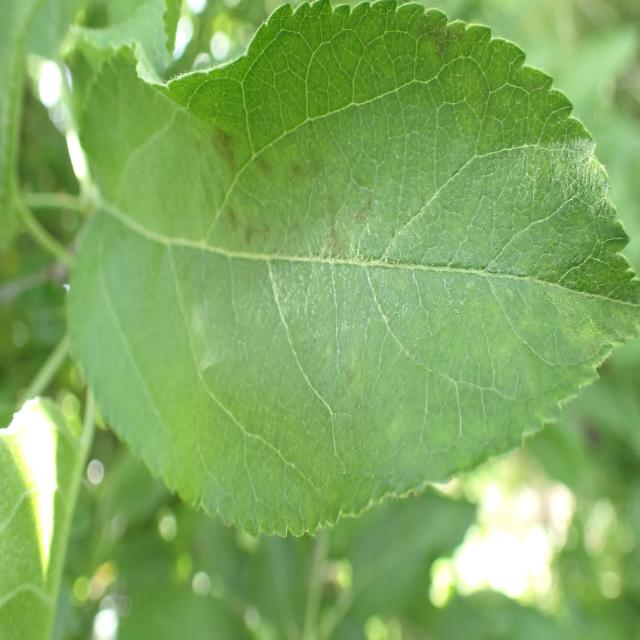Rust: (161, 89, 420, 317)
scab: (398, 0, 502, 94)
